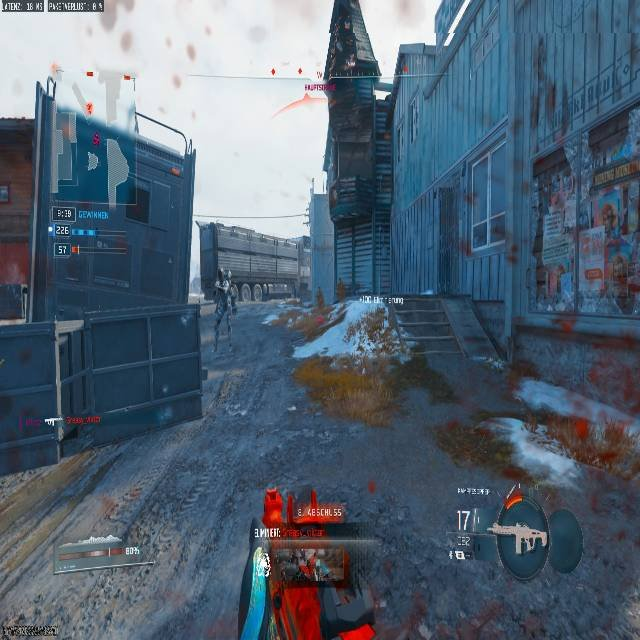player: (211, 270, 238, 338)
